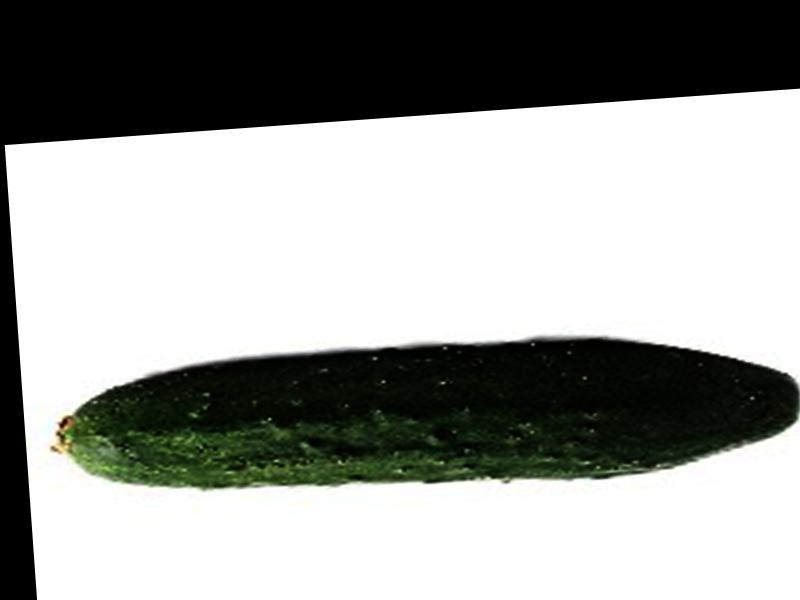Cucumber: (49, 321, 800, 514)
